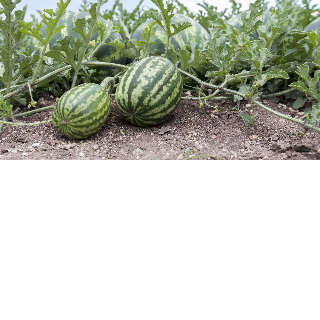dua_hau: (115, 53, 183, 126), (49, 81, 113, 141)
